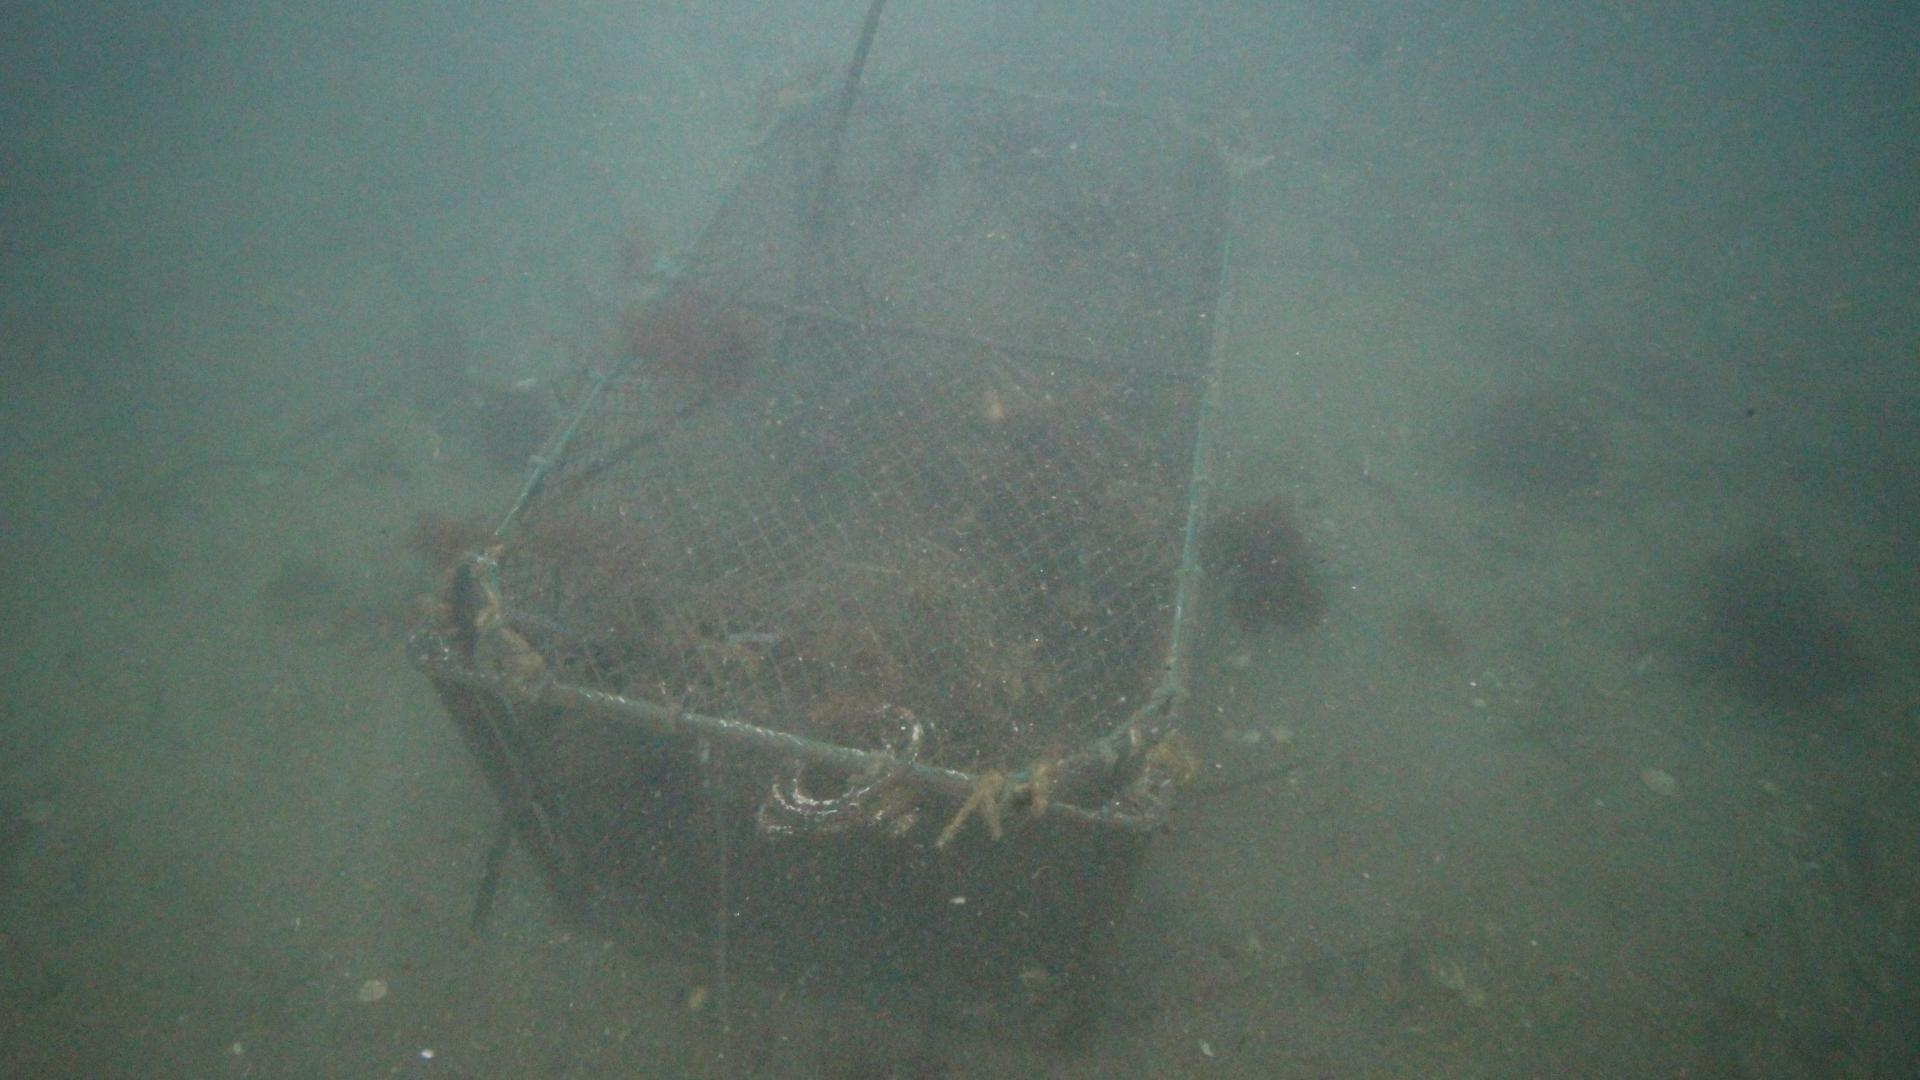rectangular fish trap: (415, 65, 1266, 1038)
